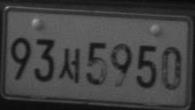0: (160, 45, 182, 90)
3: (33, 38, 55, 82)
5: (85, 42, 108, 85), (135, 45, 157, 89)
9: (110, 42, 133, 87), (9, 36, 32, 80)
서: (57, 47, 81, 84)
